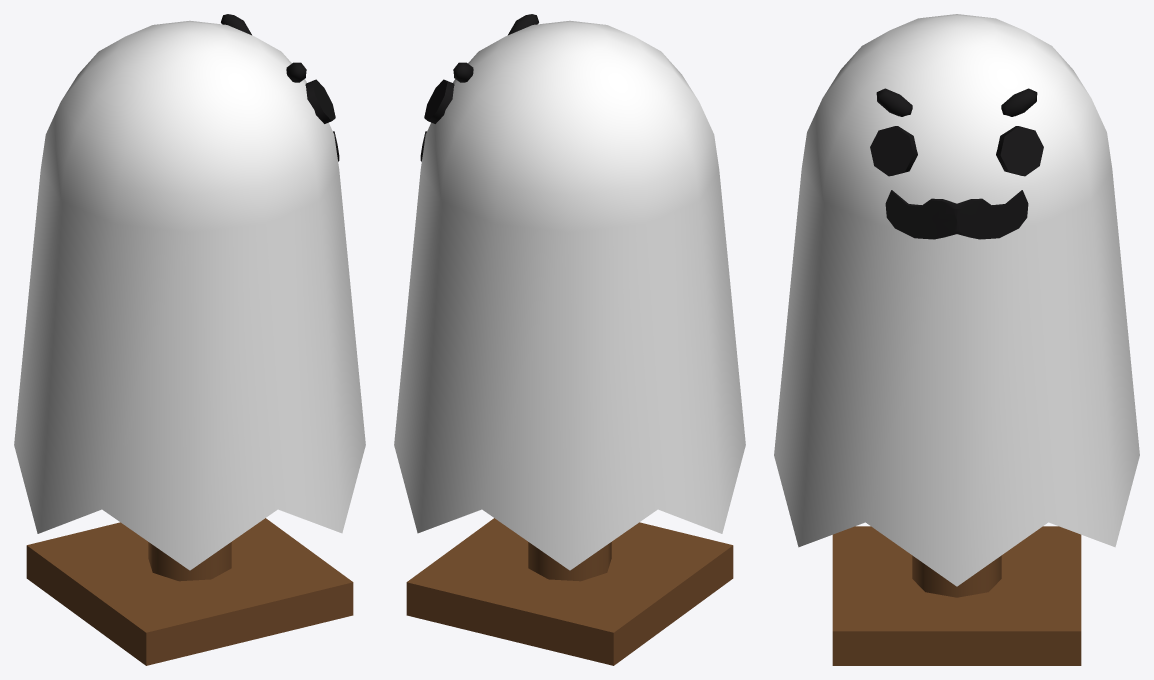
File: MM_Ghost.fbx
3 views of the same model, side by side, from view 1: azimuth 30°, elevation 25°; view 2: azimuth 150°, elevation 25°; view 3: azimuth 270°, elevation 25° (orthographic). The views are drawn at different scales.
Visible parts, largest first — view 1: MM_Ghost; view 2: MM_Ghost; view 3: MM_Ghost.
Boxes of the visible parts, x1,y1,x2,y2 form: MM_Ghost: (14, 14, 365, 665); MM_Ghost: (394, 14, 745, 665); MM_Ghost: (774, 14, 1139, 665).
Size of the model in its own units: 80.24 by 142 by 80.24.
